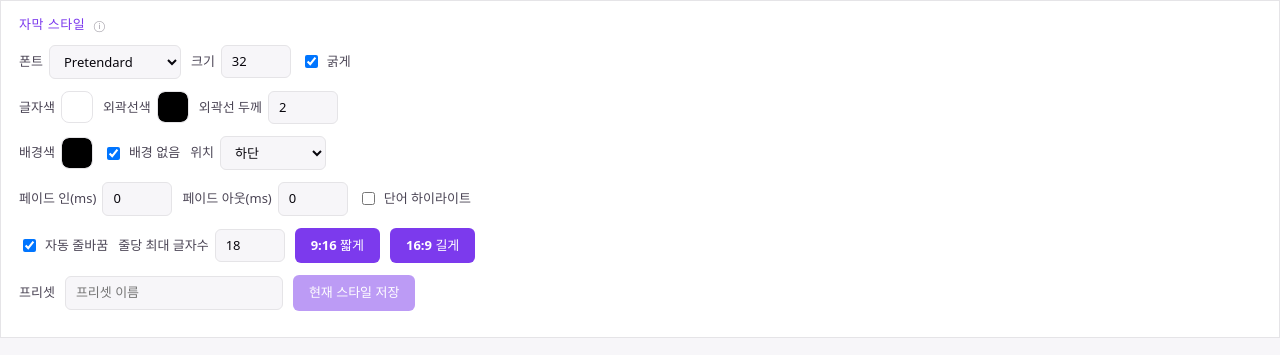
Test: SubtitleStylePanel › disables "현재 스타일 저장" until a preset name is entered
Check: the button "현재 스타일 저장" is disabled, box [293,275,415,310]
Type "my preset" into the field with placeholder "프리셋 이름" at {"x": 174, "y": 293}, box [65,276,283,310]
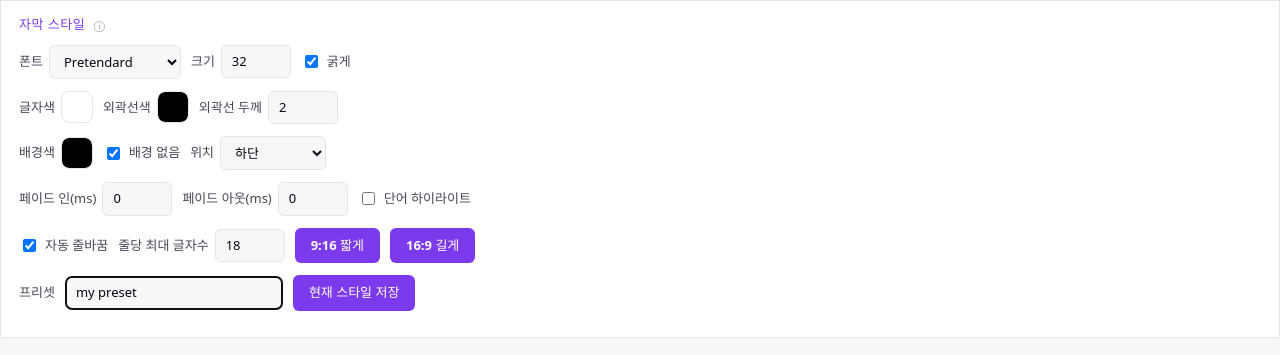
Check: the button "현재 스타일 저장" is enabled, box [293,275,415,310]
